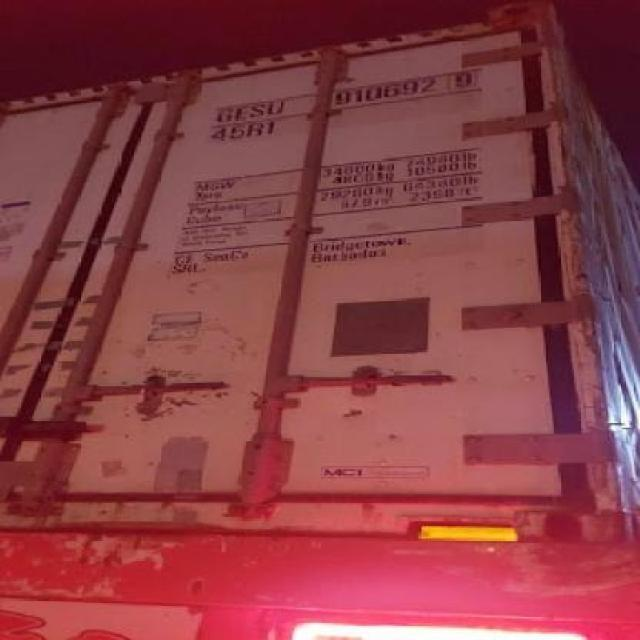ISO: (202, 115, 276, 142)
container_number: (214, 63, 481, 121)
